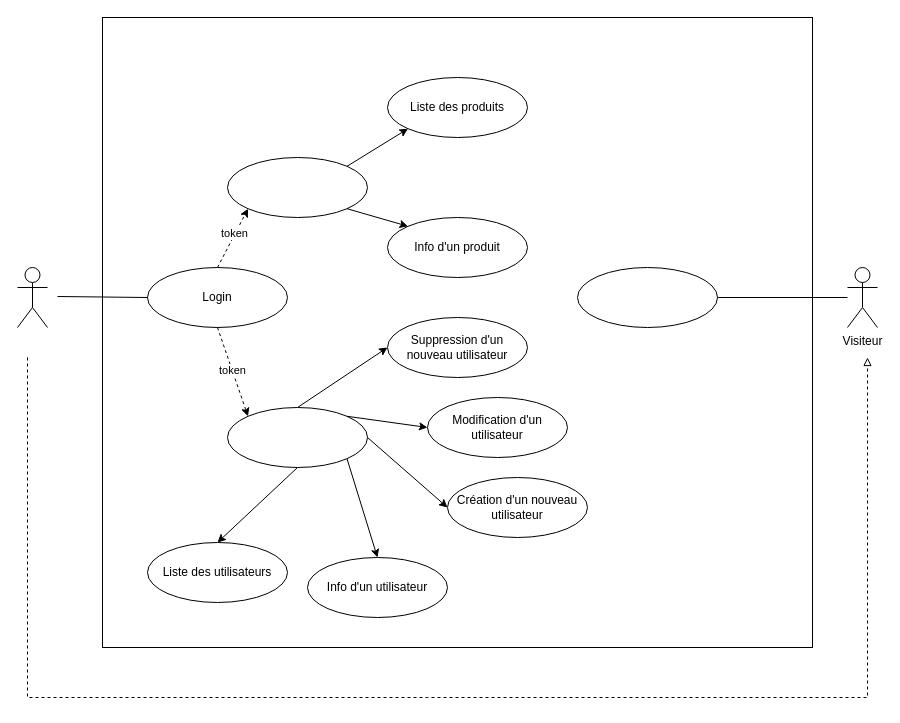
This 900x723 diagram has some shape labels left out. The centre of each missing label's shape, as x and y in pixels:
"API doc" goes at [647,297].
"Client" goes at [32,297].
"Produits" goes at [297,187].
"Utilisateurs" goes at [297,437].
